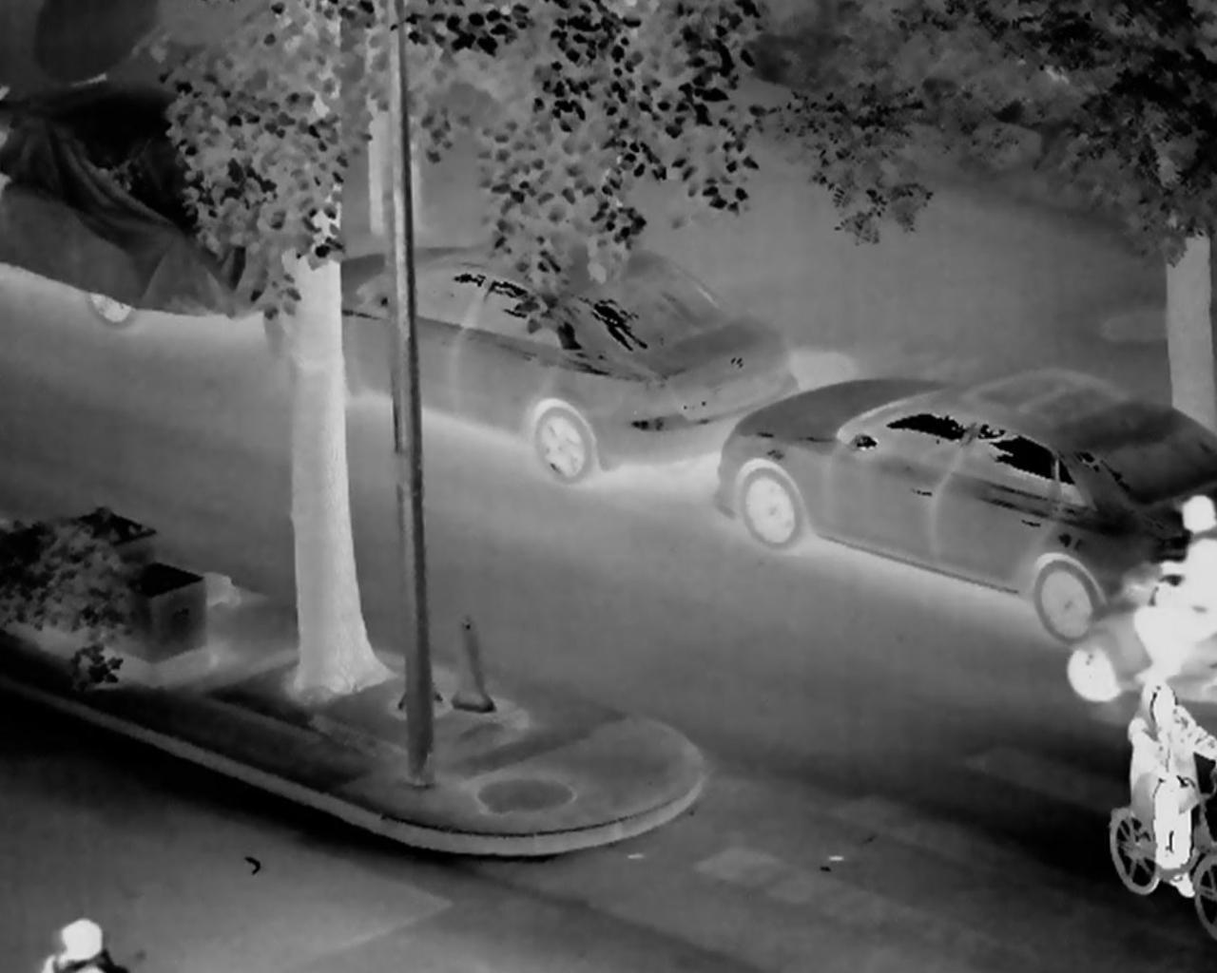person: (1115, 681, 1217, 892), (1119, 488, 1217, 679), (39, 920, 115, 973)
